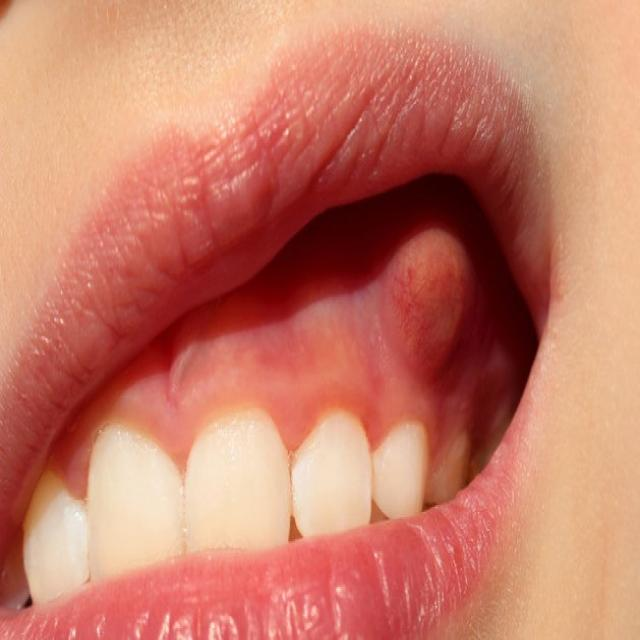abscess: (316, 202, 506, 406)
